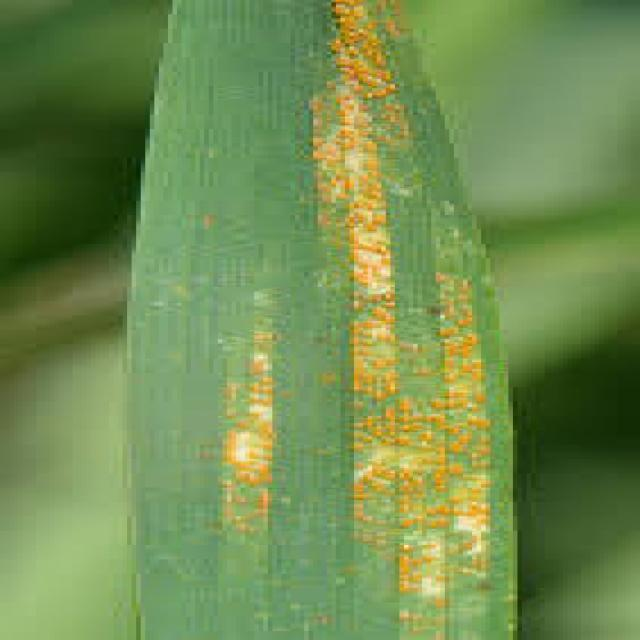Yellow Rust: (103, 0, 521, 639)
